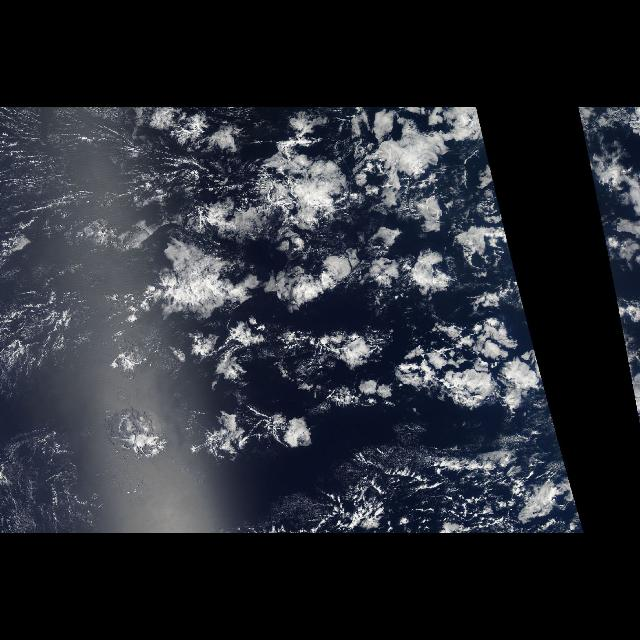Fish: (103, 283, 513, 445)
Flower: (128, 123, 552, 467)
Sugar: (1, 110, 210, 512)
